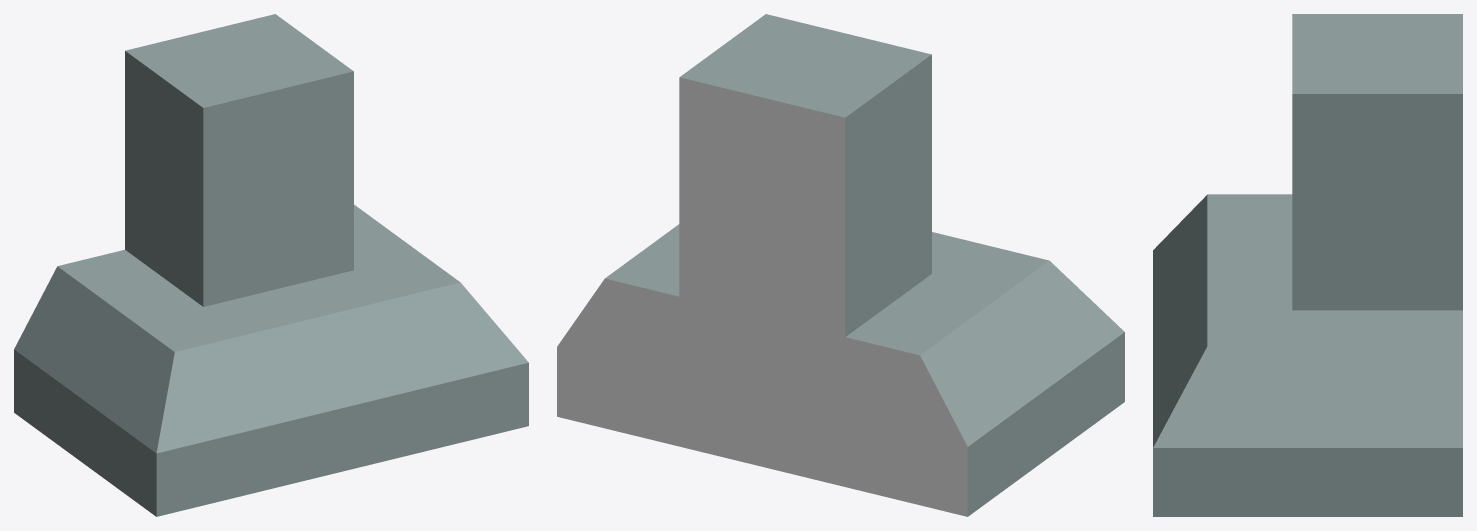
The model's file is hoodLarge.glb.
The picture shows the model from 3 angles, left to right: view 1: azimuth 30°, elevation 25°; view 2: azimuth 150°, elevation 25°; view 3: azimuth 270°, elevation 25°; orthographic projection. The views are drawn at different scales.
Parts seen in each view (by area): view 1: hoodLarge(Clone); view 2: hoodLarge(Clone); view 3: hoodLarge(Clone).
Part boxes in pixels (x1,y1,x2,y2): hoodLarge(Clone): (14, 14, 528, 516); hoodLarge(Clone): (557, 14, 1124, 516); hoodLarge(Clone): (1153, 14, 1462, 516).
Size of the model in its own units: 0.8729 by 0.7501 by 0.5783.
Materials: 2 (2 with a texture image).
